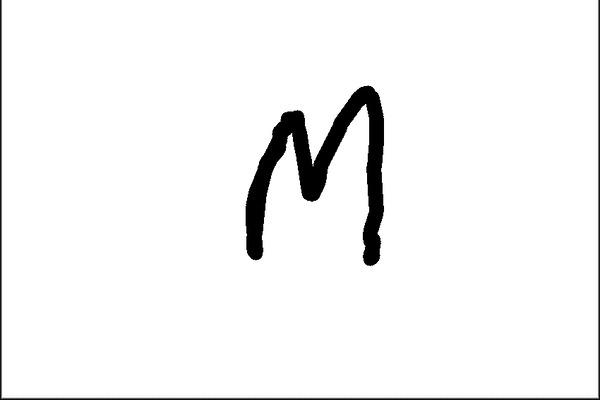M: (238, 84, 383, 266)
